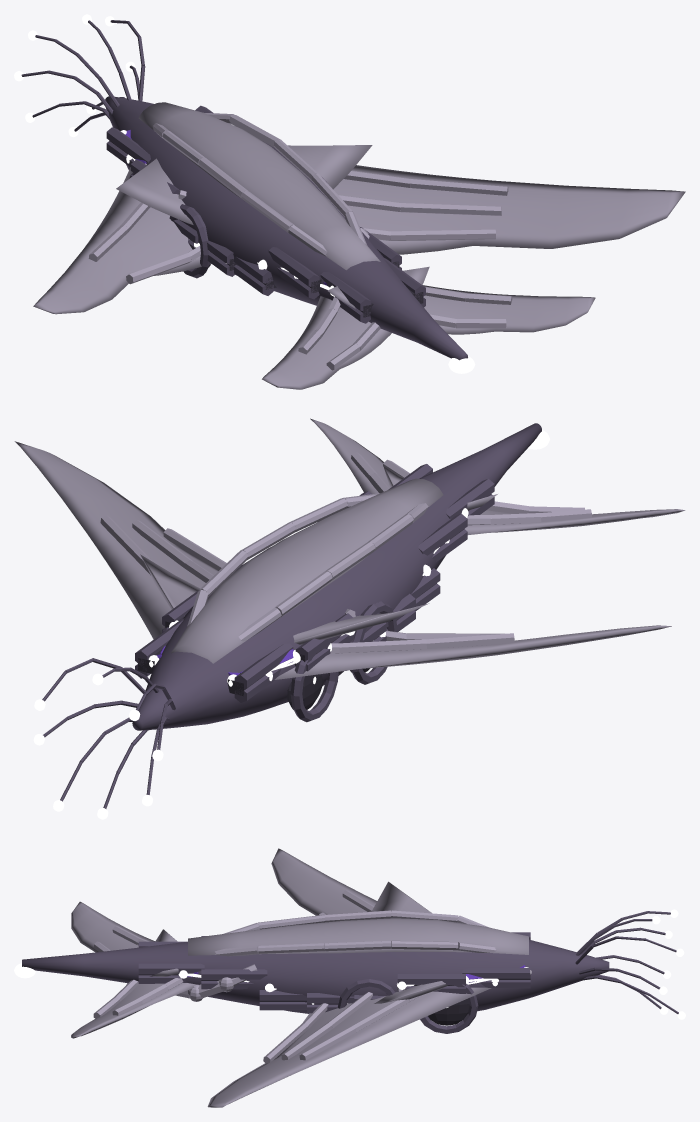
The picture shows the model from 3 angles, top to bottom: view 1: azimuth 30°, elevation 25°; view 2: azimuth 150°, elevation 25°; view 3: azimuth 270°, elevation 25°; orthographic projection. The views are drawn at different scales.
Parts seen in each view (by area): view 1: RIMWARD_HULL, RIMWARD_EMISSIVE; view 2: RIMWARD_HULL, RIMWARD_EMISSIVE; view 3: RIMWARD_HULL, RIMWARD_EMISSIVE.
Boxes of the visible parts, x1,y1,x2,y2 form: RIMWARD_HULL: [21, 20, 685, 389]; RIMWARD_EMISSIVE: [14, 14, 334, 296]; RIMWARD_HULL: [14, 418, 685, 808]; RIMWARD_EMISSIVE: [33, 508, 468, 819]; RIMWARD_HULL: [22, 848, 678, 1107]; RIMWARD_EMISSIVE: [178, 909, 685, 1019].
Size of the model in its own units: 6.85 by 1.3 by 7.78.
